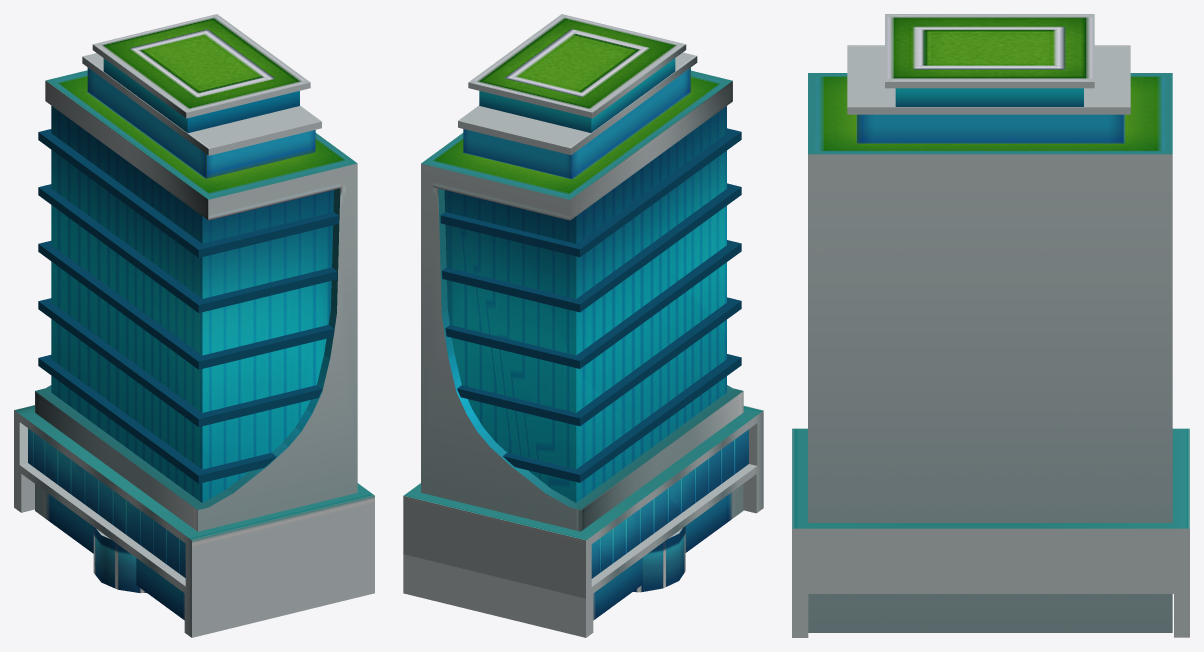
Rendered from Tx_Exterior_Business_Office4.fbx.
3 renders of one model, left to right at view 1: azimuth 30°, elevation 25°; view 2: azimuth 150°, elevation 25°; view 3: azimuth 270°, elevation 25°, orthographic. The views are drawn at different scales.
Visible parts, largest first — view 1: Building; view 2: Building; view 3: Building.
Boxes of the visible parts, left/top/right/bottom form: Building: left=14, top=14, right=374, bottom=637; Building: left=403, top=14, right=763, bottom=637; Building: left=792, top=14, right=1189, bottom=637.
Bounding box in the file's own units: 11.02 × 27.96 × 18.24.
Materials: 1 (1 with a texture image).
